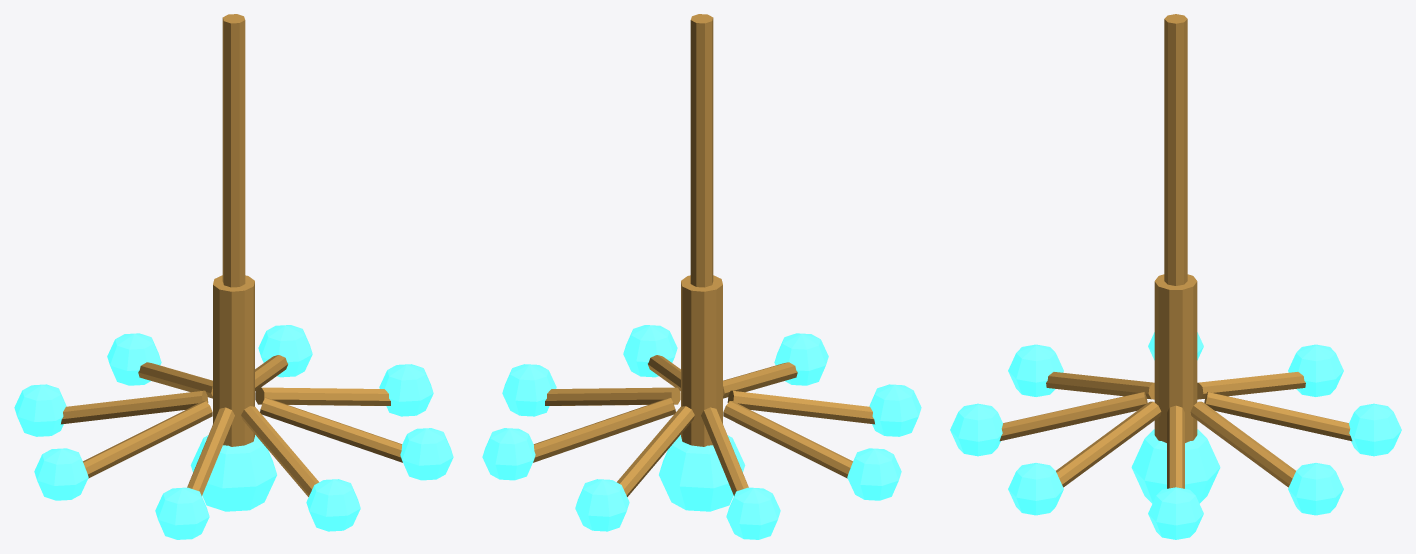
File: chandelier.glb
The picture shows the model from 3 angles, left to right: view 1: azimuth 30°, elevation 25°; view 2: azimuth 150°, elevation 25°; view 3: azimuth 270°, elevation 25°; orthographic projection.
Parts seen in each view (by area): view 1: ceiling_chain, center_stem, center_light, arm_7, arm_4, arm_3, arm_0, bulb_5, bulb_6, bulb_4, bulb_7, bulb_3 (+7 smaller); view 2: ceiling_chain, center_stem, center_light, arm_1, arm_4, arm_5, arm_0, bulb_2, bulb_3, bulb_4, bulb_1, bulb_5 (+7 smaller); view 3: ceiling_chain, center_stem, center_light, arm_2, arm_6, arm_1, arm_7, bulb_1, bulb_7, bulb_0, bulb_2, bulb_6 (+5 smaller).
Part boxes in pixels (x1,y1,x2,y2): ceiling_chain: [222, 14, 245, 287]; center_stem: [213, 275, 254, 446]; center_light: [190, 435, 276, 511]; arm_7: [260, 397, 402, 462]; arm_4: [83, 401, 212, 478]; arm_3: [61, 390, 208, 424]; arm_0: [255, 387, 390, 405]; bulb_5: [155, 487, 209, 539]; bulb_6: [306, 479, 360, 531]; bulb_4: [34, 448, 88, 500]; bulb_7: [400, 428, 453, 480]; bulb_3: [14, 384, 66, 436]; ceiling_chain: [690, 14, 713, 287]; center_stem: [681, 275, 722, 446]; center_light: [659, 435, 745, 511]; arm_1: [533, 397, 675, 462]; arm_4: [723, 401, 852, 478]; arm_5: [727, 390, 874, 424]; arm_0: [545, 387, 680, 405]; bulb_2: [575, 479, 629, 531]; bulb_3: [726, 487, 780, 539]; bulb_4: [847, 448, 901, 500]; bulb_1: [482, 428, 535, 480]; bulb_5: [869, 384, 921, 436]; ceiling_chain: [1164, 14, 1187, 285]; center_stem: [1154, 274, 1197, 442]; center_light: [1131, 429, 1220, 503]; arm_2: [1204, 392, 1352, 441]; arm_6: [999, 392, 1147, 441]; arm_1: [1190, 401, 1295, 487]; arm_7: [1056, 401, 1161, 487]; bulb_1: [1288, 463, 1343, 515]; bulb_7: [1008, 463, 1063, 515]; bulb_0: [1148, 487, 1203, 539]; bulb_2: [1349, 403, 1401, 456]; bulb_6: [950, 403, 1002, 456].
Size of the model in its own units: 2.74 by 3.27 by 2.74.
